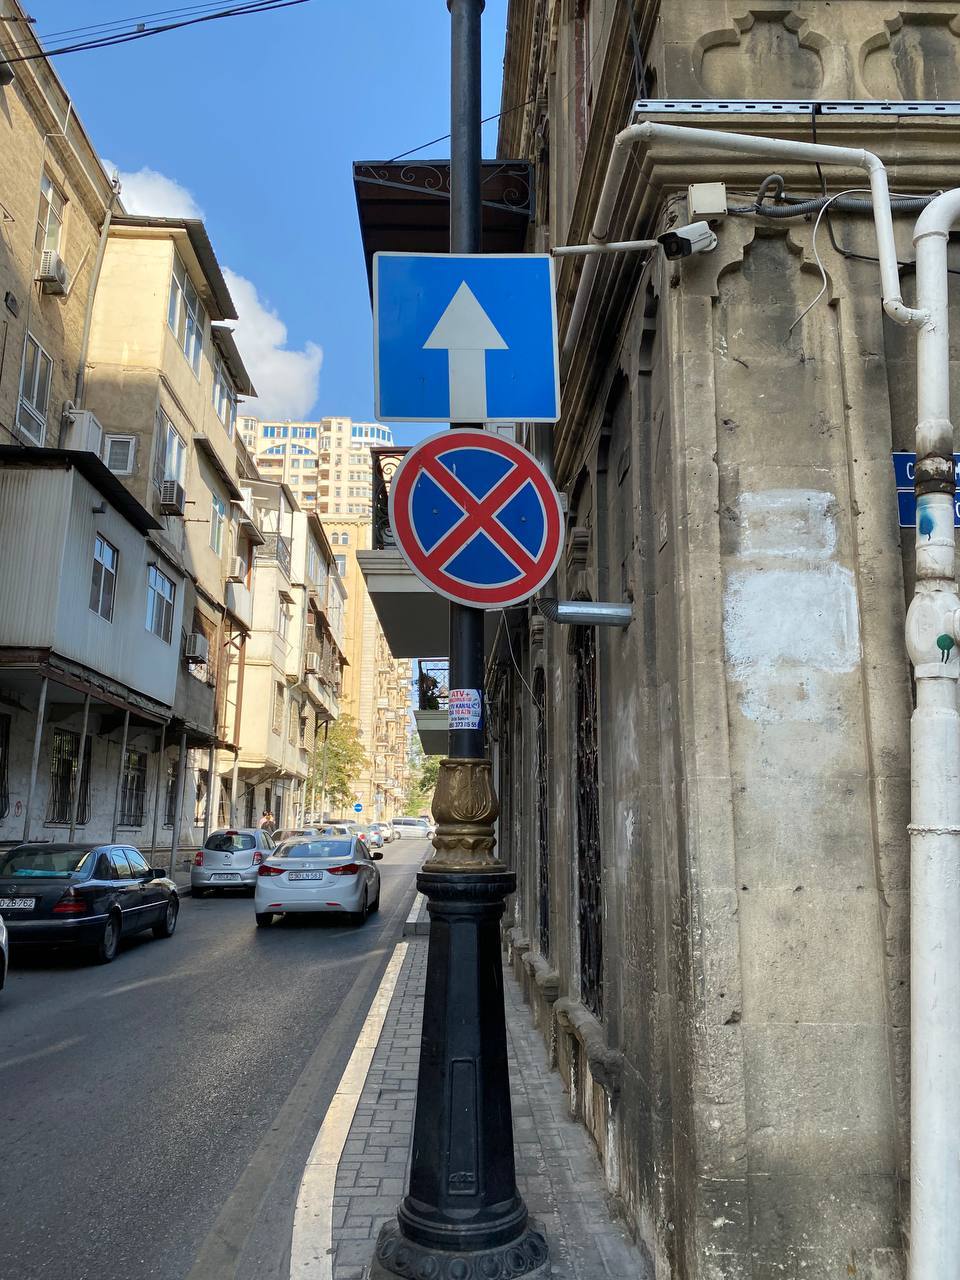No Parking: (388, 428, 566, 609)
